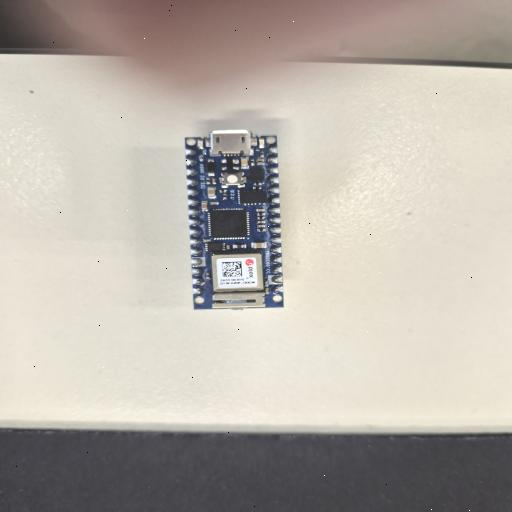arduino-nano-iot-33: (188, 134, 279, 312)
